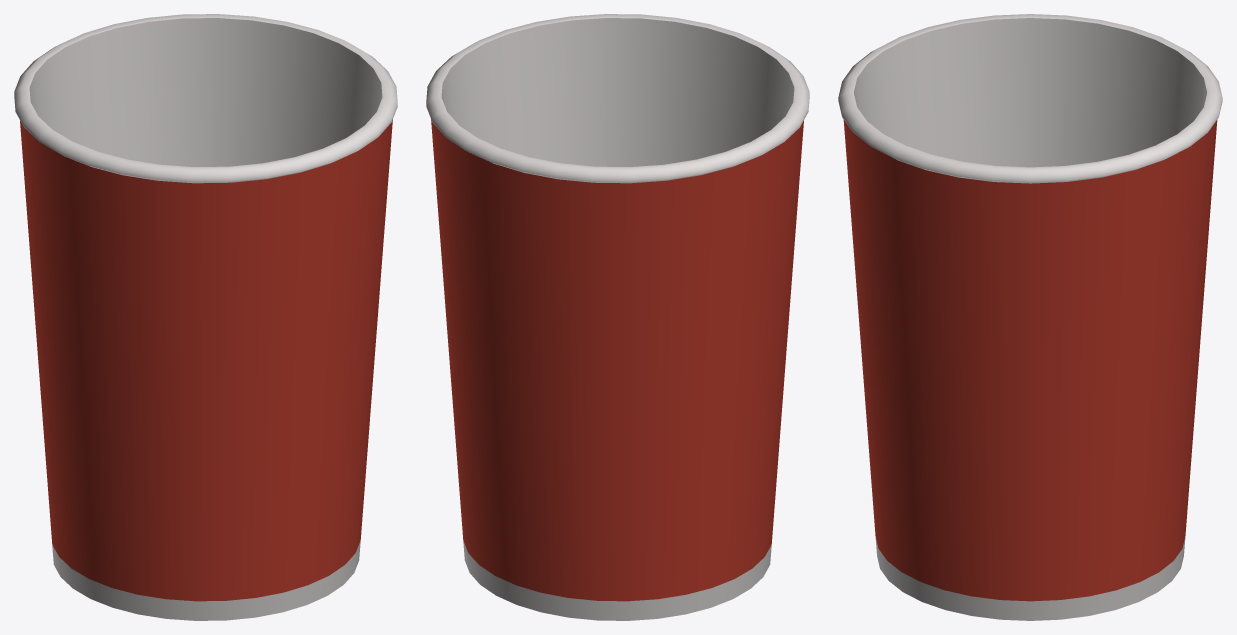
Rendered from paperCup.fbx.
3 renders of one model, left to right at view 1: azimuth 30°, elevation 25°; view 2: azimuth 150°, elevation 25°; view 3: azimuth 270°, elevation 25°, orthographic.
Visible parts, largest first — view 1: Paper Cup; view 2: Paper Cup; view 3: Paper Cup.
Part boxes in pixels (x1,y1,x2,y2): Paper Cup: (14, 14, 397, 620); Paper Cup: (426, 14, 809, 620); Paper Cup: (838, 14, 1222, 620).
Bounding box in the file's own units: 250 × 334 × 250.
